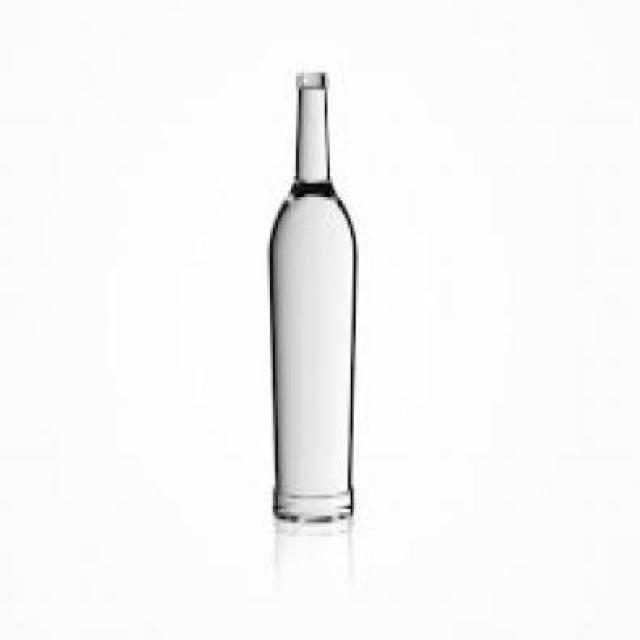kaca: (266, 70, 351, 520)
